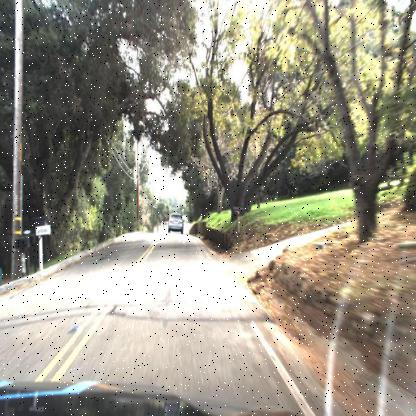car: (165, 211, 185, 241)
